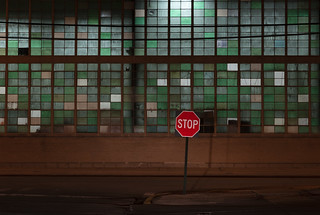StopSign: (174, 110, 199, 137)
